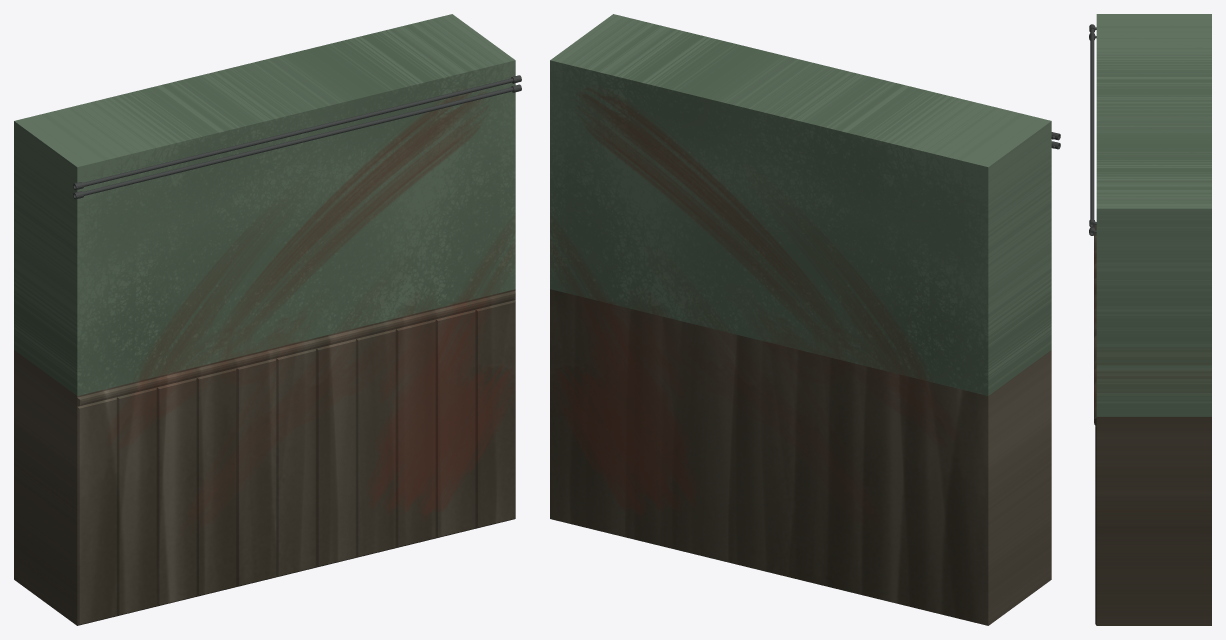
File: Wall_2_M.fbx
3 renders of one model, left to right at view 1: azimuth 30°, elevation 25°; view 2: azimuth 150°, elevation 25°; view 3: azimuth 270°, elevation 25°, orthographic. The views are drawn at different scales.
Parts seen in each view (by area): view 1: Wall_2_M; view 2: Wall_2_M; view 3: Wall_2_M.
Boxes of the visible parts, x1,y1,x2,y2 form: Wall_2_M: [14, 14, 521, 625]; Wall_2_M: [550, 14, 1060, 625]; Wall_2_M: [1089, 14, 1211, 625].
Size of the model in its own units: 4.07 by 4 by 1.07.
